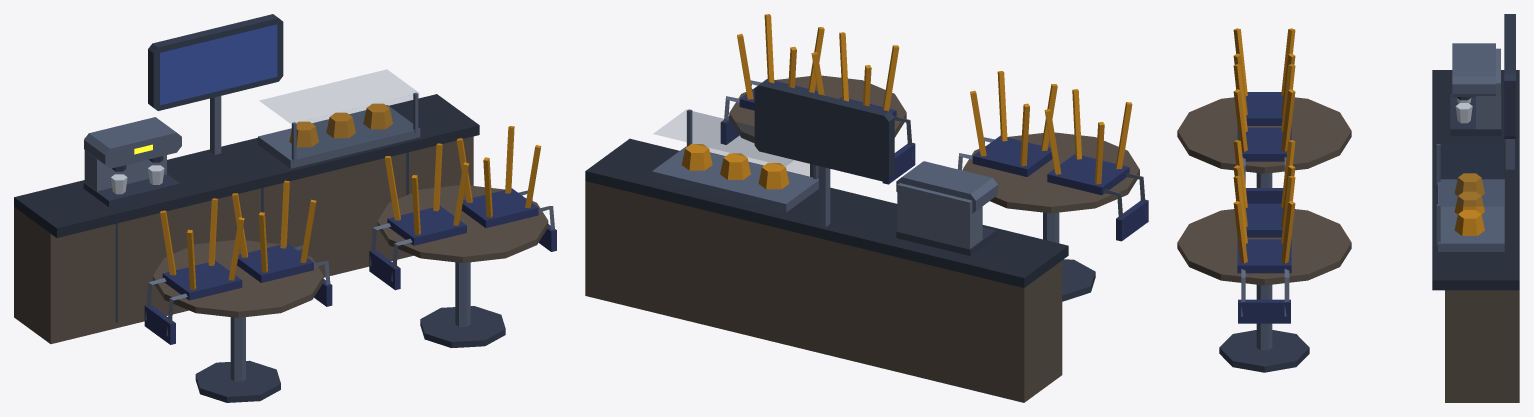
The model's file is mall_cafe_set.glb.
3 views of the same model, side by side, from view 1: azimuth 30°, elevation 25°; view 2: azimuth 150°, elevation 25°; view 3: azimuth 270°, elevation 25° (orthographic). The views are drawn at different scales.
Parts seen in each view (by area): view 1: bar, countertop, brew_head, case_stile, bentwood_back, bake, pastry_front, menu, back_support, cup; view 2: bar, countertop, brew_head, bake, case_stile, bentwood_back, back_support, pastry_front; view 3: bar, countertop, case_stile, bentwood_back, bake, brew_head, pastry_front, back_support, cup.
Boxes of the visible parts, x1,y1,x2,y2 form: bar: (14, 136, 548, 343); countertop: (14, 94, 479, 237); brew_head: (83, 14, 505, 402); case_stile: (84, 92, 470, 381); bentwood_back: (144, 188, 556, 344); bake: (160, 103, 541, 290); pastry_front: (260, 70, 418, 159); menu: (160, 24, 277, 105); back_support: (84, 137, 554, 336); cup: (111, 165, 164, 194); bar: (585, 75, 1139, 402); countertop: (585, 138, 1068, 287); brew_head: (754, 81, 1095, 301); bake: (681, 14, 1132, 189); case_stile: (652, 109, 1059, 243); bentwood_back: (720, 79, 1148, 241); back_support: (724, 80, 1146, 248); pastry_front: (654, 110, 818, 178); bar: (1177, 97, 1519, 402); countertop: (1432, 70, 1519, 290); case_stile: (1256, 43, 1514, 350); bentwood_back: (1237, 92, 1291, 323); bake: (1233, 28, 1484, 263); brew_head: (1219, 14, 1515, 372); pastry_front: (1439, 143, 1503, 205); back_support: (1241, 48, 1500, 316); cup: (1455, 98, 1472, 123).
Size of the model in its own units: 3.2 by 1.75 by 2.2.
